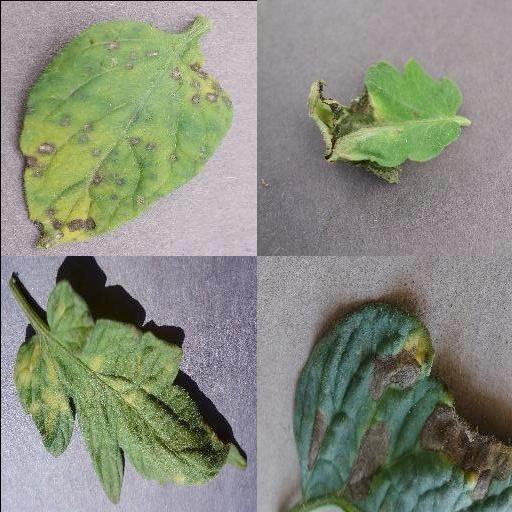Early Blight: (289, 303, 511, 512)
Late Blight: (302, 61, 464, 185)
Leaf Mold: (12, 282, 248, 504)
Septoria: (18, 19, 233, 251)
